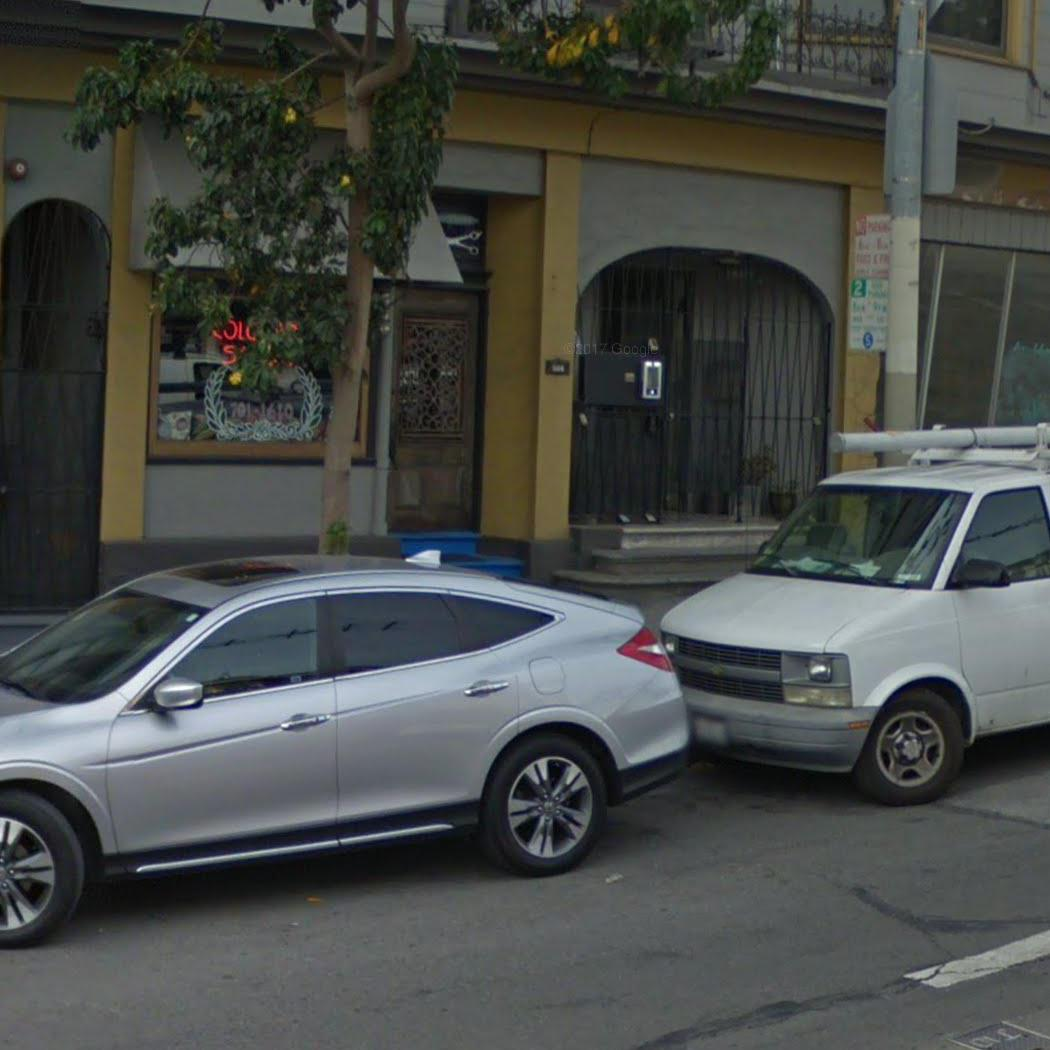2 Hour Parking: (848, 280, 889, 349)
No Parking: (854, 216, 891, 278)
